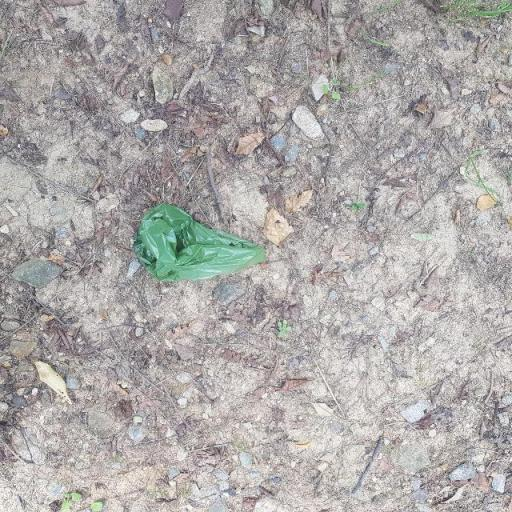plastic-bag: (134, 199, 268, 287)
